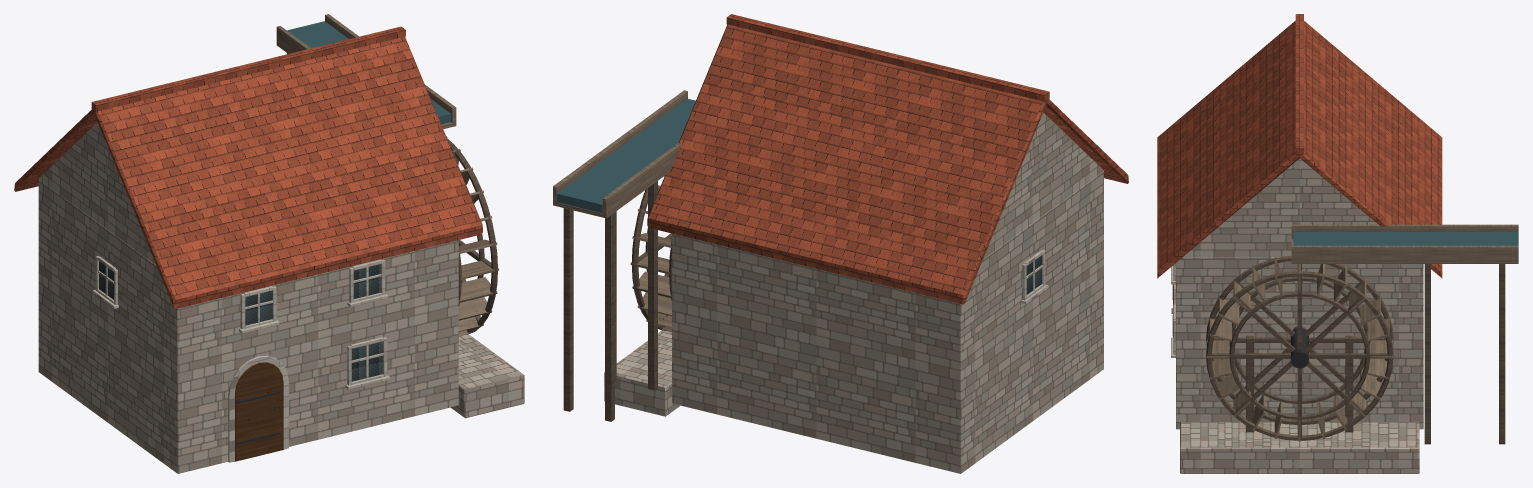
File: water-mill.glb
The picture shows the model from 3 angles, left to right: view 1: azimuth 30°, elevation 25°; view 2: azimuth 150°, elevation 25°; view 3: azimuth 270°, elevation 25°; orthographic projection. The views are drawn at different scales.
Parts seen in each view (by area): view 1: Water_Mill, Mill_Wheel; view 2: Water_Mill, Mill_Wheel; view 3: Water_Mill, Mill_Wheel.
Part boxes in pixels (x1=…): Water_Mill: x1=14, y1=14, x2=524, y2=473; Mill_Wheel: x1=446, y1=136, x2=498, y2=335; Water_Mill: x1=553, y1=14, x2=1128, y2=473; Mill_Wheel: x1=630, y1=176, x2=671, y2=332; Water_Mill: x1=1157, y1=14, x2=1518, y2=473; Mill_Wheel: x1=1206, y1=256, x2=1393, y2=441.
Bounding box in the file's own units: 9.05 × 8.08 × 8.75.
9 materials, 7 textured.
